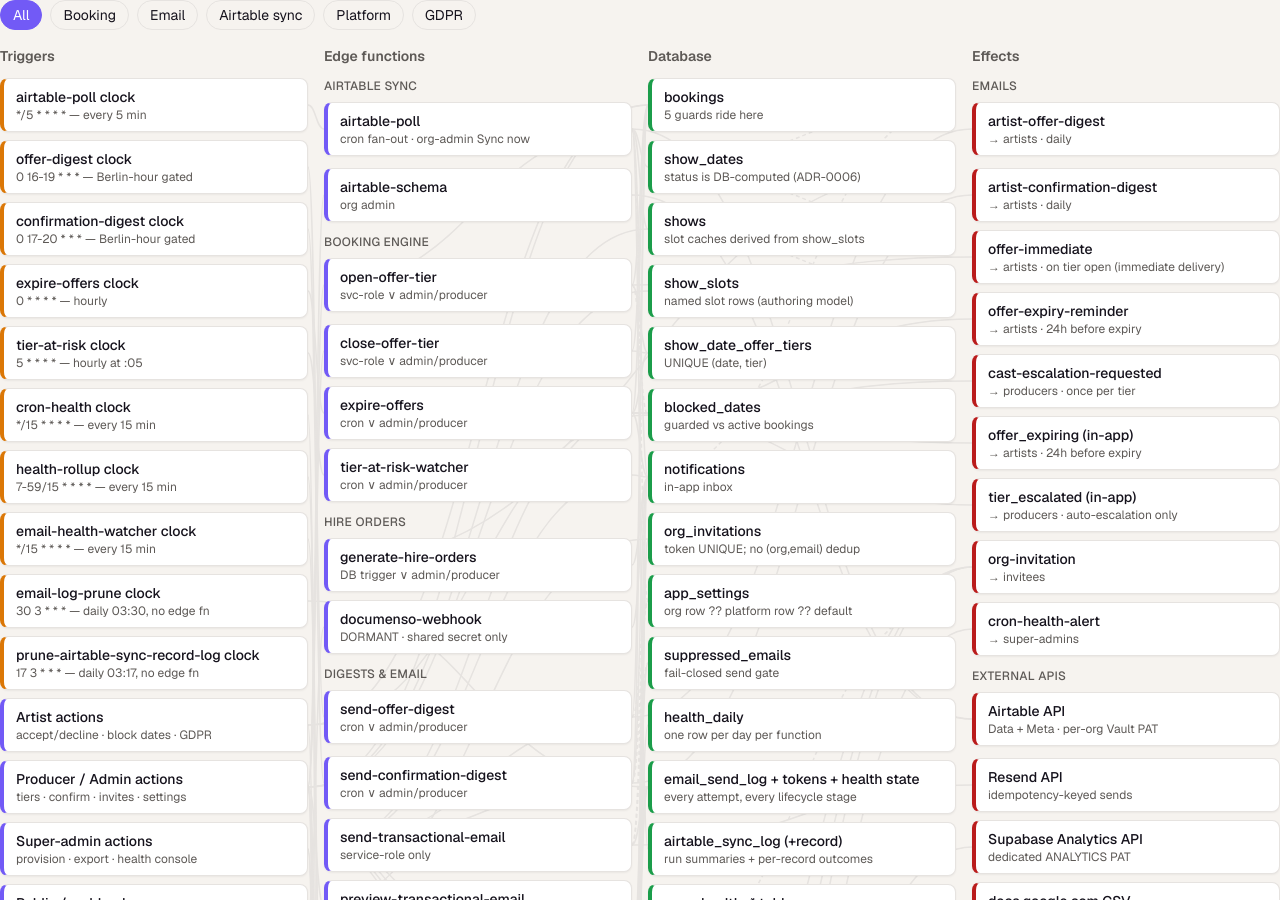
SystemMapCanvas › filters nodes by subsystem chip
'Airtable sync' filter hides a GDPR-only node like fetch-remote-sheet
Click the button "Airtable sync" at {"x": 261, "y": 15}, box [206,0,315,30]
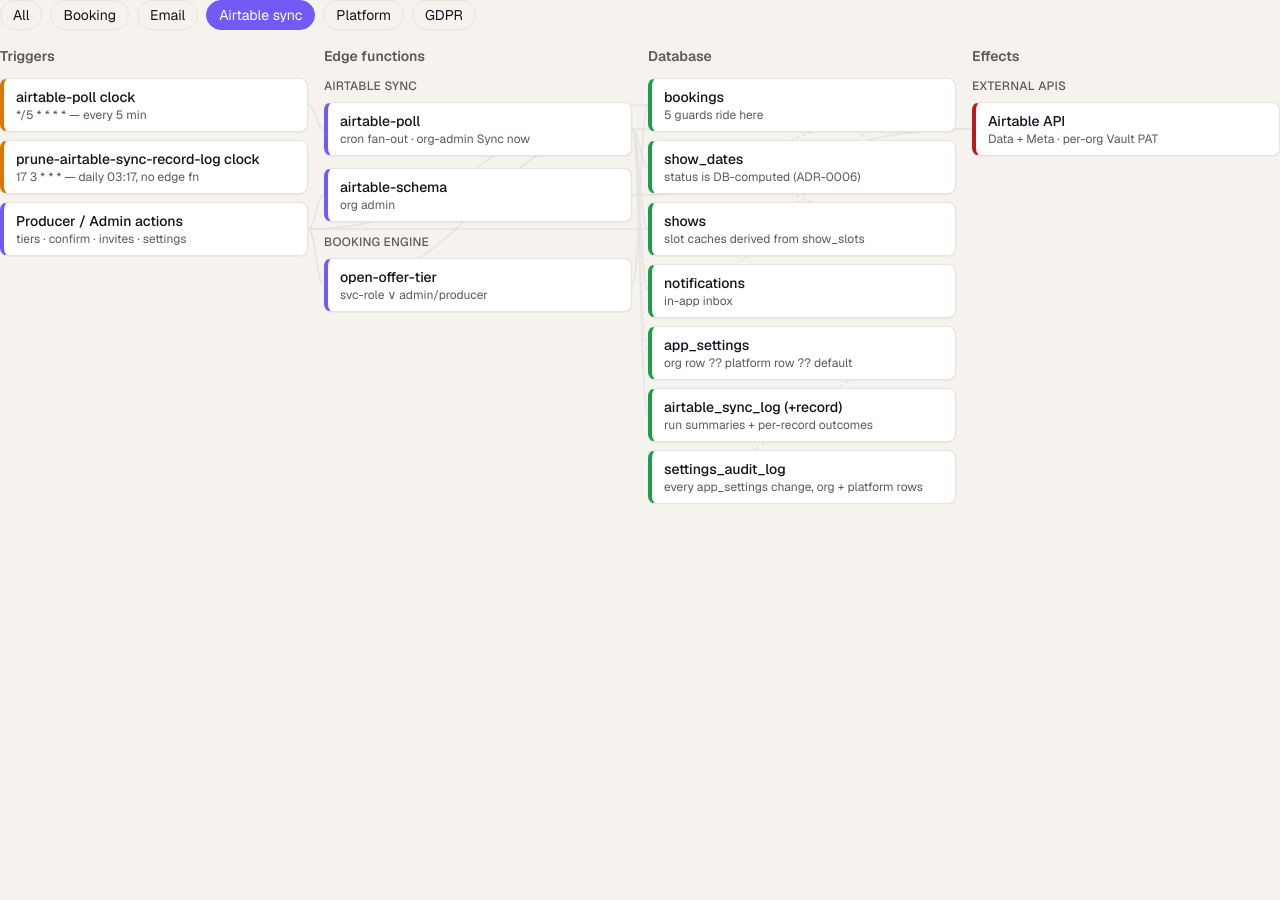
Expected: the button "fetch-remote-sheet" is not shown
Click the button "All" at {"x": 21, "y": 15}, box [0,0,42,30]
(page scrolled)
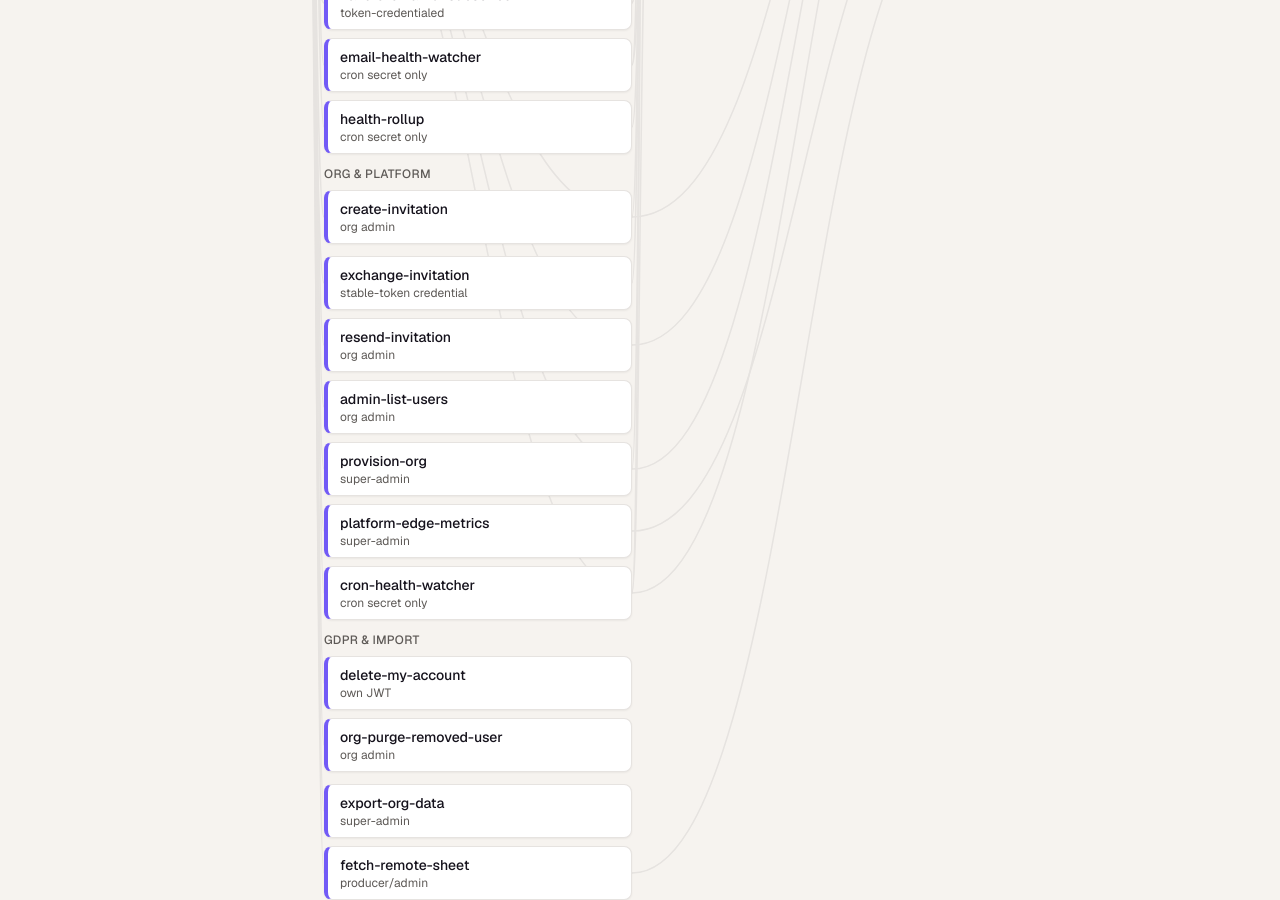
Result: the button "fetch-remote-sheet producer/admin" is shown at [324,846,632,899]
